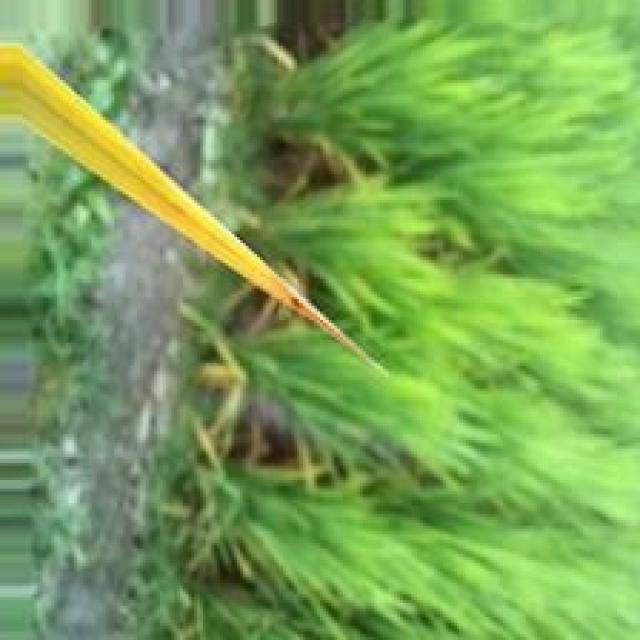Rice False Smut: (272, 276, 328, 321)
